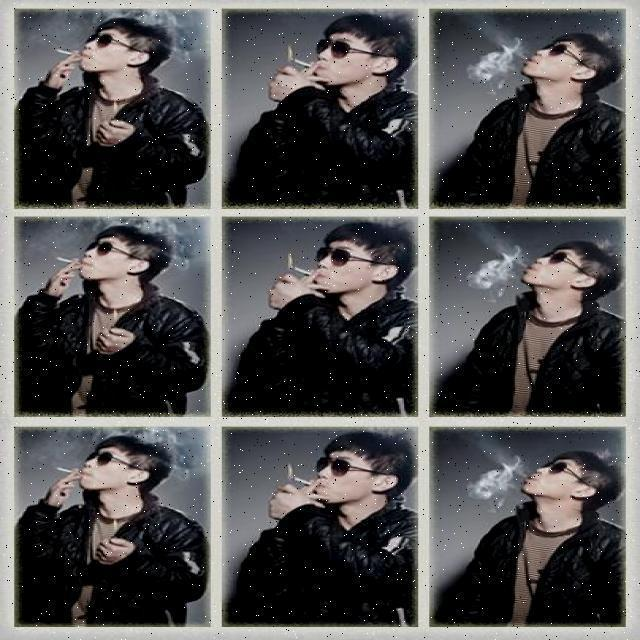smoke: (454, 34, 530, 91), (472, 455, 540, 503), (467, 246, 537, 290), (124, 221, 192, 261), (145, 7, 202, 54), (153, 424, 207, 472)
